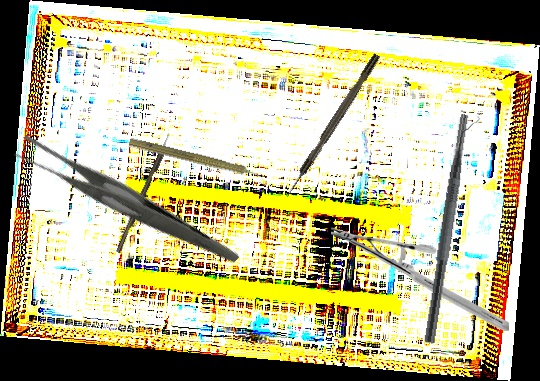Chopper: (423, 112, 483, 347)
Dressing Forceps: (9, 86, 241, 321)
Handpiece: (127, 135, 271, 187)
Hook Surgical: (283, 53, 382, 198), (114, 132, 174, 254)
Needle Holder: (331, 227, 509, 331)
Pusher: (426, 113, 469, 318)
